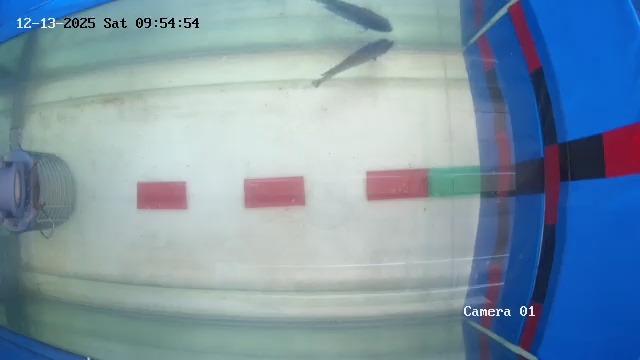fish: (307, 34, 407, 86)
